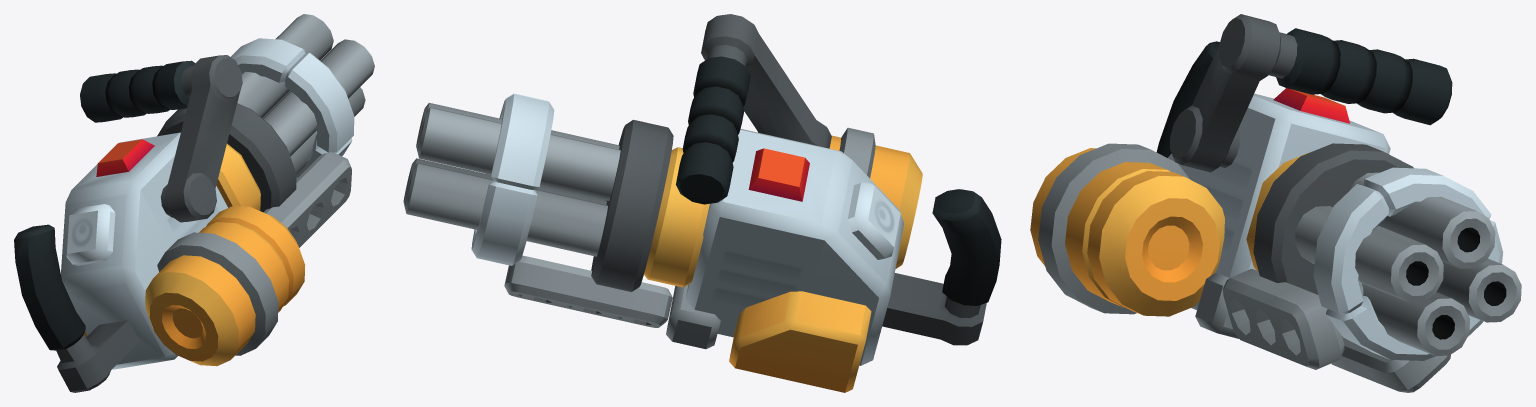
Rendered from CombatMech_Minigun_KFB.glb.
3 renders of one model, left to right at view 1: azimuth 30°, elevation 25°; view 2: azimuth 150°, elevation 25°; view 3: azimuth 270°, elevation 25°, orthographic. The views are drawn at different scales.
Visible parts, largest first — view 1: CombatMech_Minigun, CombatMech_Minigun_Barrel; view 2: CombatMech_Minigun, CombatMech_Minigun_Barrel; view 3: CombatMech_Minigun, CombatMech_Minigun_Barrel.
Part boxes in pixels (x1,y1,x2,y2): CombatMech_Minigun: (14,55,351,392); CombatMech_Minigun_Barrel: (157,14,374,212); CombatMech_Minigun: (504,14,1001,392); CombatMech_Minigun_Barrel: (403,93,673,291); CombatMech_Minigun: (1030,14,1452,392); CombatMech_Minigun_Barrel: (1253,143,1521,360).
Bounding box in the file's own units: 1.24 × 0.8001 × 0.9594.
Materials: 1 (1 with a texture image).
